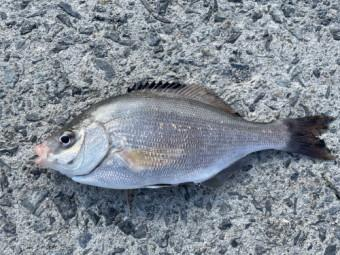fish: (34, 80, 336, 191)
